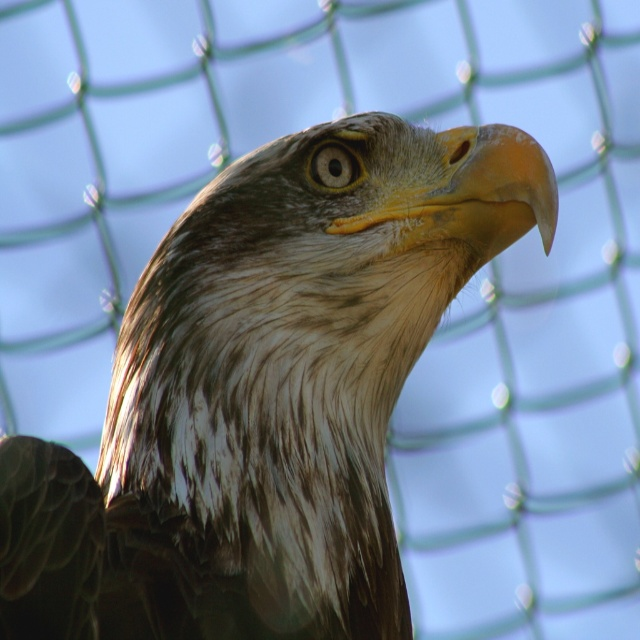Eagle: (0, 107, 562, 639)
